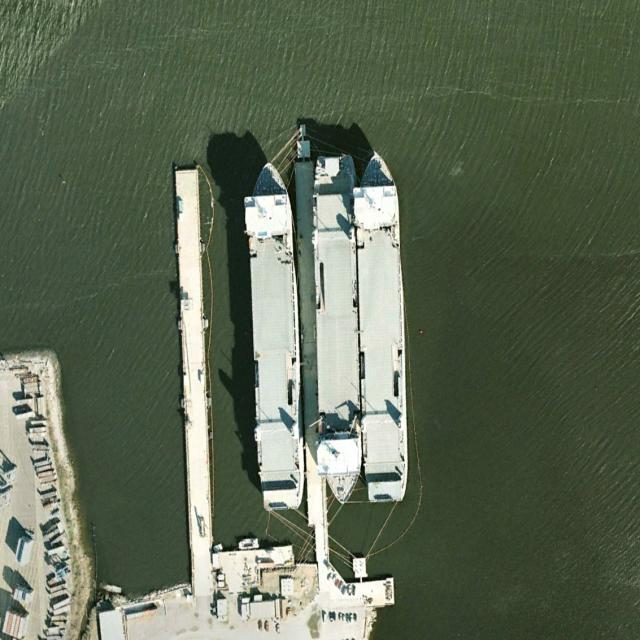Cargo: (243, 158, 306, 513), (351, 146, 410, 504), (311, 152, 365, 505)
